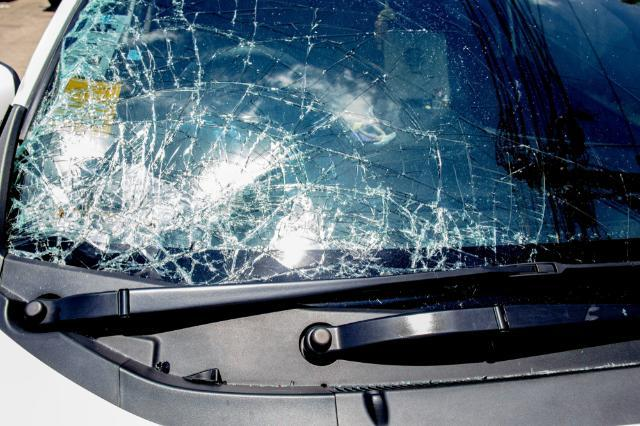glass shatter: (7, 0, 640, 286)
